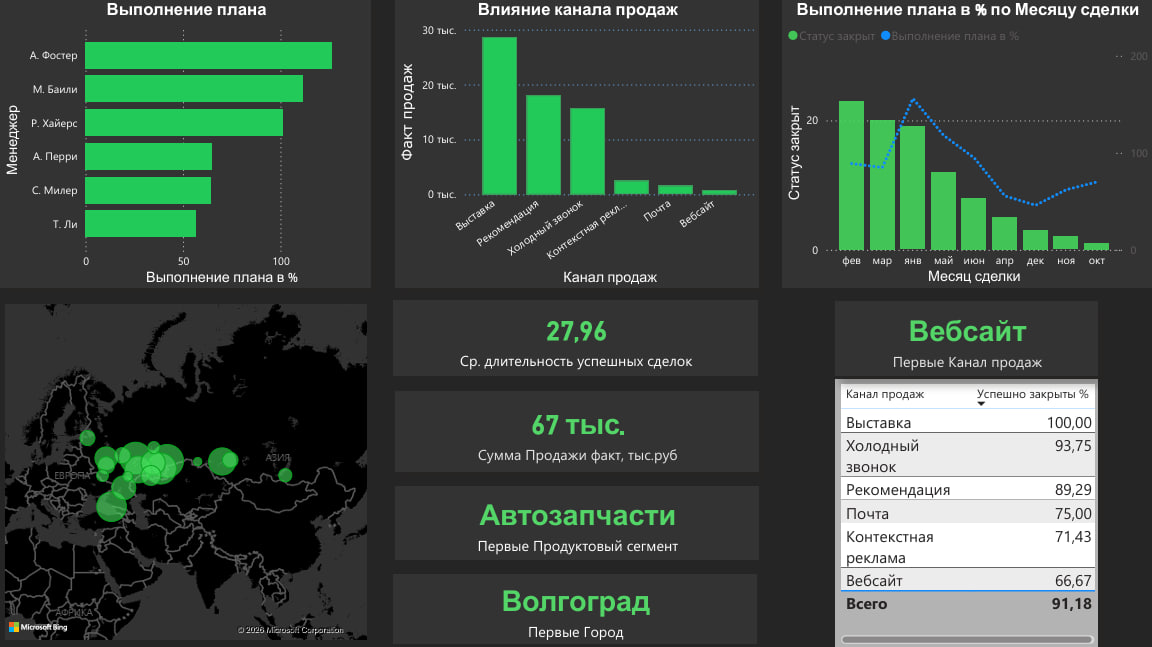

What the dashboard file says about the page in this screenshot:
{"tool":"powerbi","page":{"name":"Страница 1","canvas":[1280,720],"ordinal":0},"visuals":[{"type":"actionButton","box":[493,0,100,40],"z":0},{"type":"lineClusteredColumnComboChart","title":"Выполнение плана в % по Месяцу сделки","fields":{"Category":["Лист1.Месяц сделки"],"Y2":["Лист1.Выполнение плана в %"],"Y":["Лист1.Статус закрыт"]},"box":[869,0,411,321],"z":1000},{"type":"map","fields":{"Category":["Лист1.Город"],"Size":["Лист1.Продажи факт, тыс.руб"]},"box":[0,333,412,383],"z":2000},{"type":"tableEx","fields":{"Values":["Лист2.Канал продаж","Лист2.Конверсия %"]},"box":[927.8,422.2,292.2,297.8],"z":3000},{"type":"clusteredBarChart","title":"Выполнение плана","fields":{"Category":["Лист1.Менеджер"],"Y":["Лист1.Выполнение плана в %"]},"box":[0,0,412.2,321.1],"z":4000},{"type":"card","fields":{"Values":["Лист1.Продажи факт, тыс.руб"]},"box":[439,435,404,90],"z":5000},{"type":"card","fields":{"Values":["Лист1.Канал продаж"]},"box":[927.8,335.6,292.2,83.3],"z":6000},{"type":"card","fields":{"Values":["Лист1.Город"]},"box":[437,639,404,77],"z":7000},{"type":"card","fields":{"Values":["Лист1.Продуктовый сегмент"]},"box":[439,541,404,82],"z":8000},{"type":"clusteredColumnChart","title":"Влияние канала продаж","fields":{"Y":["Лист1.Факт продаж"],"Category":["Лист2.Канал продаж"]},"box":[439,0,404,321],"z":9000},{"type":"card","fields":{"Values":["Лист1.Ср. длительность успешных сделок"]},"box":[437,334,405,84],"z":10000}]}

Visuals, with their boxes in screenshot pixels (x1, y1, x2, y2), scaled from the page's 1280x720 canvas onto the 1152x647 screenshot:
actionButton: x1=444 y1=0 x2=534 y2=36
"Выполнение плана в % по Месяцу сделки" lineClusteredColumnComboChart: x1=782 y1=0 x2=1151 y2=288
map - Лист1.Город x Лист1.Продажи факт, тыс.руб: x1=0 y1=299 x2=371 y2=643
tableEx - Лист2.Канал продаж x Лист2.Конверсия %: x1=835 y1=379 x2=1098 y2=646
"Выполнение плана" clusteredBarChart: x1=0 y1=0 x2=371 y2=289
card - Лист1.Продажи факт, тыс.руб: x1=395 y1=391 x2=759 y2=472
card - Лист1.Канал продаж: x1=835 y1=302 x2=1098 y2=376
card - Лист1.Город: x1=393 y1=574 x2=757 y2=643
card - Лист1.Продуктовый сегмент: x1=395 y1=486 x2=759 y2=560
"Влияние канала продаж" clusteredColumnChart: x1=395 y1=0 x2=759 y2=288
card - Лист1.Ср. длительность успешных сделок: x1=393 y1=300 x2=758 y2=376
